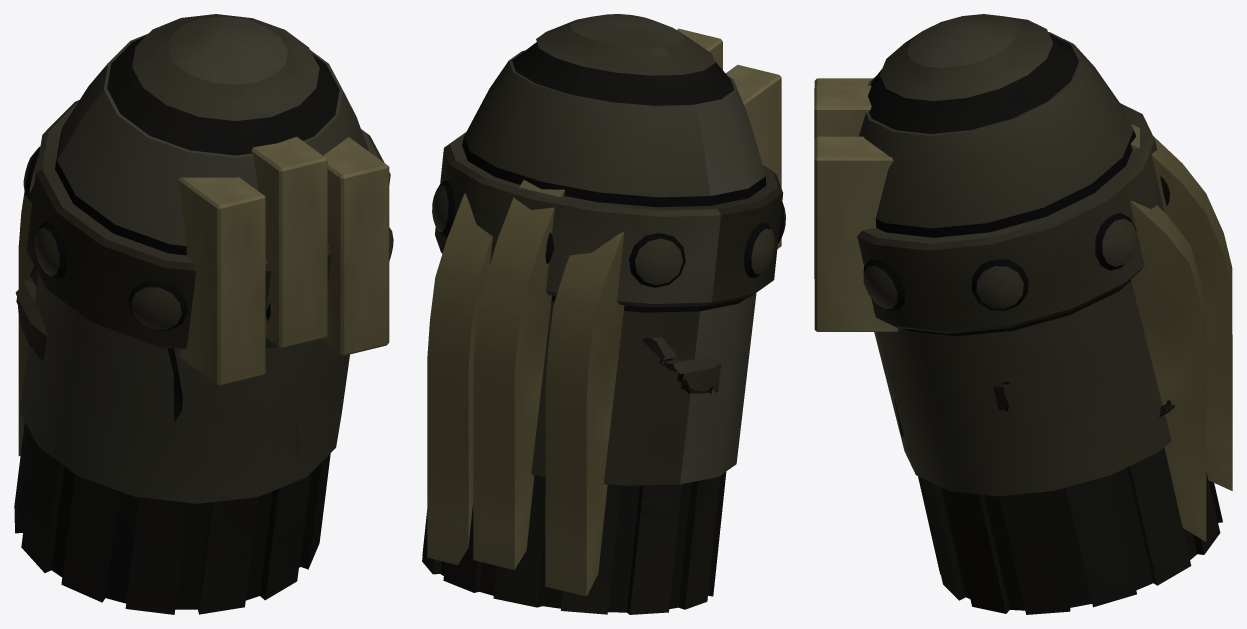
The model's file is em031_breakables_mod.obj.
3 renders of one model, left to right at view 1: azimuth 30°, elevation 25°; view 2: azimuth 150°, elevation 25°; view 3: azimuth 270°, elevation 25°, orthographic. The views are drawn at different scales.
Visible parts, largest first — view 1: Group[9], Group[5], Group[3], Group[0]; view 2: Group[9], Group[5], Group[3]; view 3: Group[9], Group[5].
Part boxes in pixels (x1,y1,x2,y2): Group[9]: (14,14,393,614); Group[5]: (18,136,389,455); Group[3]: (15,266,46,360); Group[0]: (167,347,195,439); Group[9]: (422,14,785,614); Group[5]: (427,28,781,596); Group[3]: (642,337,721,394); Group[9]: (857,14,1222,614); Group[5]: (814,78,1232,541).
Bounding box in the file's own units: 1.06 × 1.71 × 1.19.
1 material, 1 textured.
